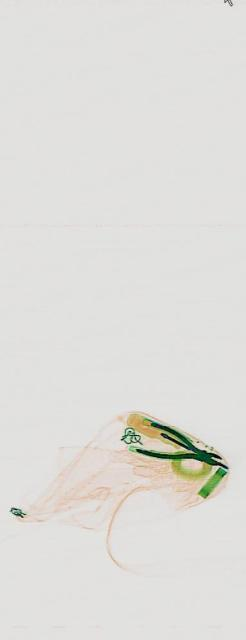Pliers: (133, 415, 220, 481)
